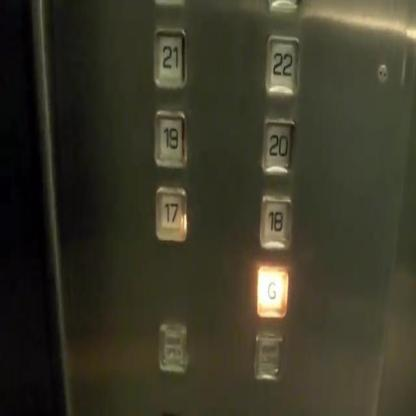17: (155, 185, 186, 242)
18: (259, 193, 293, 250)
19: (152, 108, 186, 168)
20: (262, 116, 296, 176)
21: (153, 27, 186, 87)
22: (265, 35, 300, 96)
G: (256, 264, 288, 318)
text_blur: (253, 331, 283, 386), (158, 322, 188, 372)
